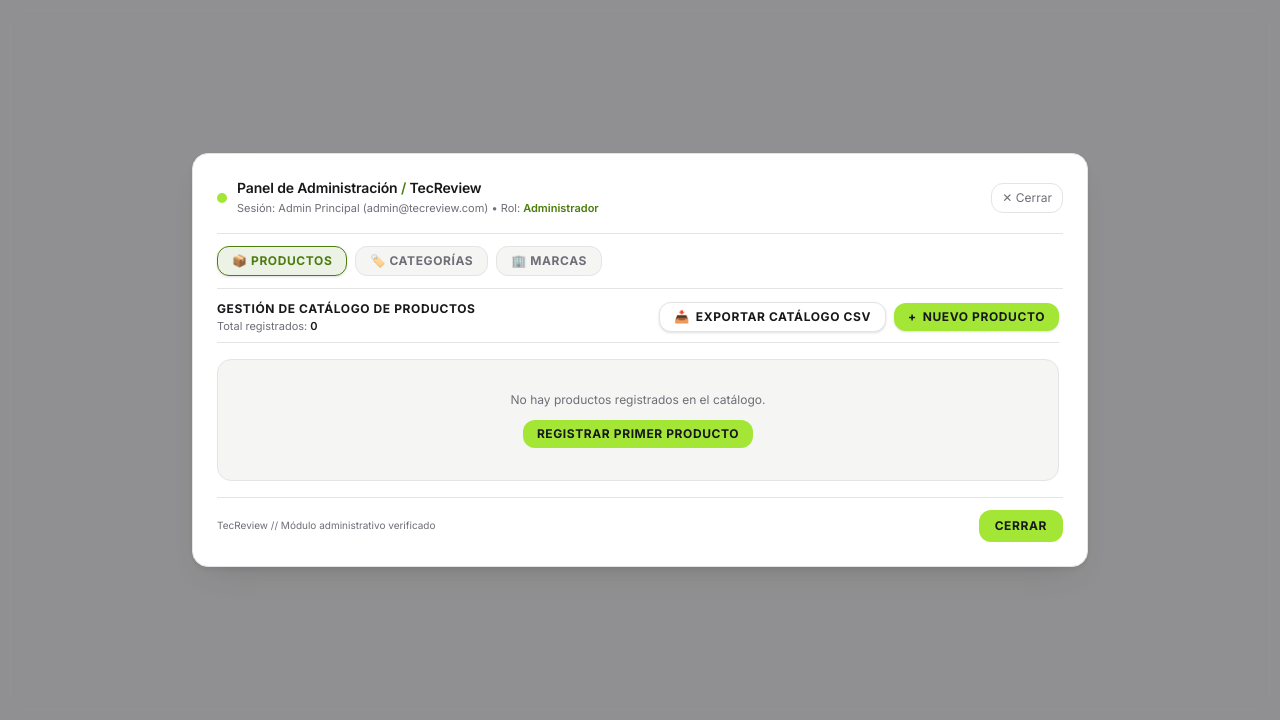
AdminPanelModal - CRUD Integral (Fase 3.3) › Gestión CRUD de Categorías (Paso 2) › debe cargar y listar las categorías activas correctamente
This screenshot has width=1280, height=720.
Click the tab "🏷️ Categorías" at [422, 261], box [355, 246, 488, 276]
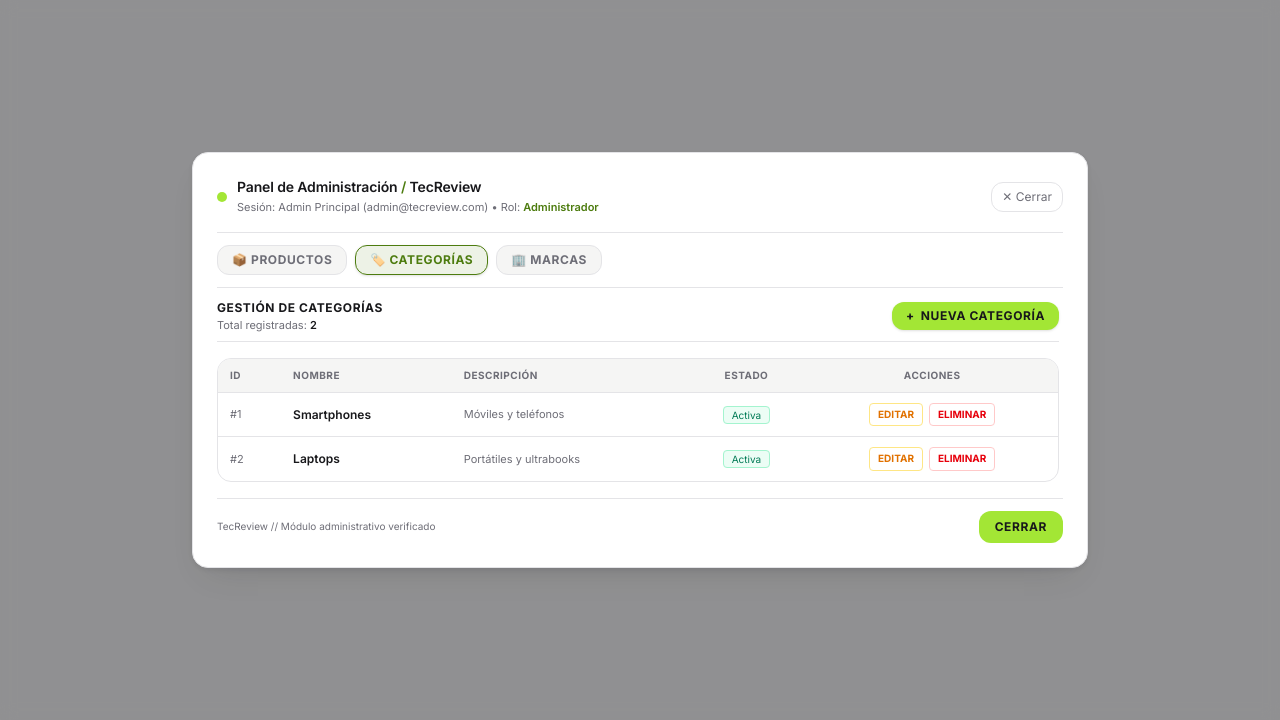
Expected: the text "Smartphones" is shown, [281, 392, 452, 437]
Expected: the text "Laptops" is shown, [281, 437, 452, 480]
Expected: the text "#1" is shown, [218, 392, 281, 437]
